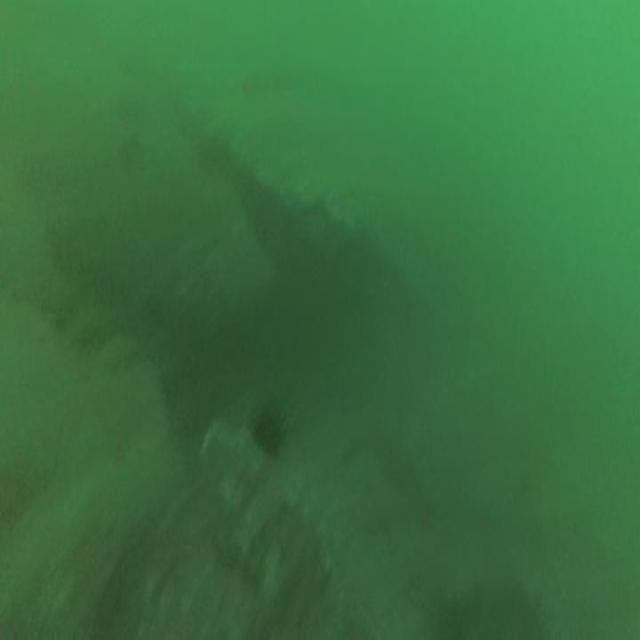echinus: (252, 408, 286, 455)
